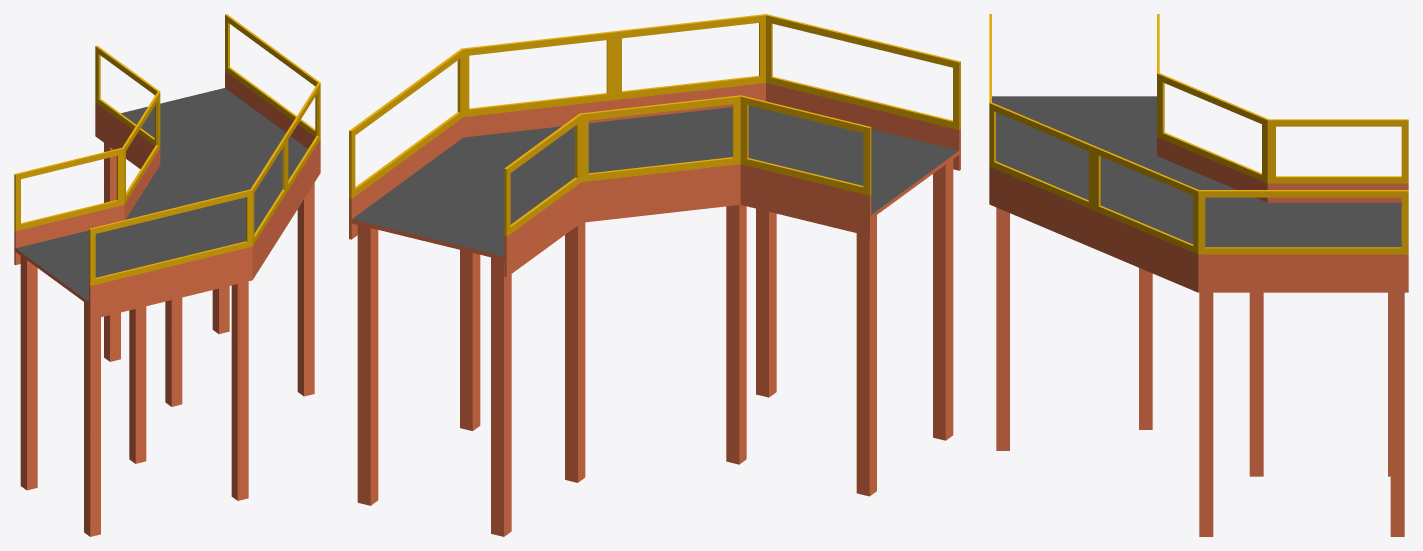
File: Prop_Industrial_Platform_Walkway_Narrow_Bend_01.FBX
3 views of the same model, side by side, from view 1: azimuth 30°, elevation 25°; view 2: azimuth 150°, elevation 25°; view 3: azimuth 270°, elevation 25° (orthographic). The views are drawn at different scales.
Parts seen in each view (by area): view 1: Prop_Industrial_Platform_Walkway_Narrow_Bend_01; view 2: Prop_Industrial_Platform_Walkway_Narrow_Bend_01; view 3: Prop_Industrial_Platform_Walkway_Narrow_Bend_01.
Part boxes in pixels (left/top/right/bottom): Prop_Industrial_Platform_Walkway_Narrow_Bend_01: left=14, top=14, right=320, bottom=536; Prop_Industrial_Platform_Walkway_Narrow_Bend_01: left=349, top=14, right=960, bottom=536; Prop_Industrial_Platform_Walkway_Narrow_Bend_01: left=989, top=14, right=1408, bottom=536.
Bounding box in the file's own units: 6000 × 5500 × 6000.
